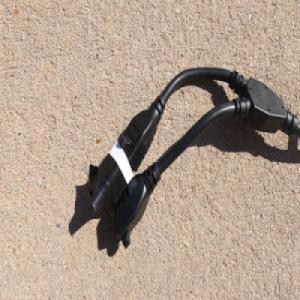Wire: (85, 63, 300, 250)
